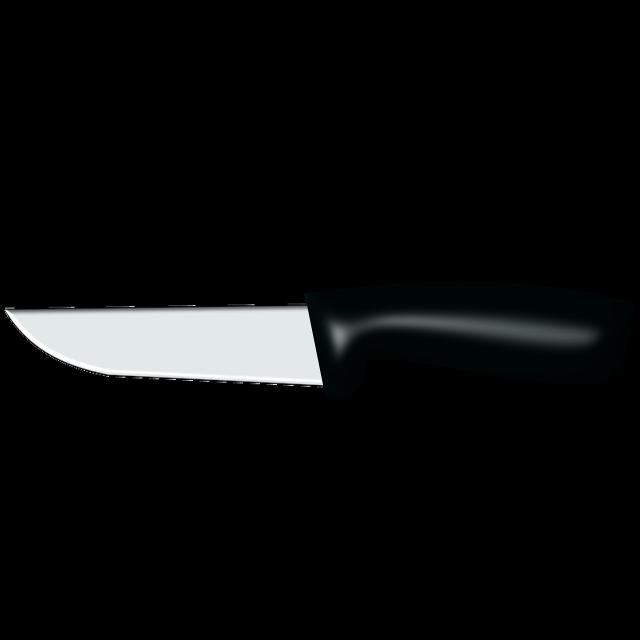Knife: (6, 281, 634, 397)
